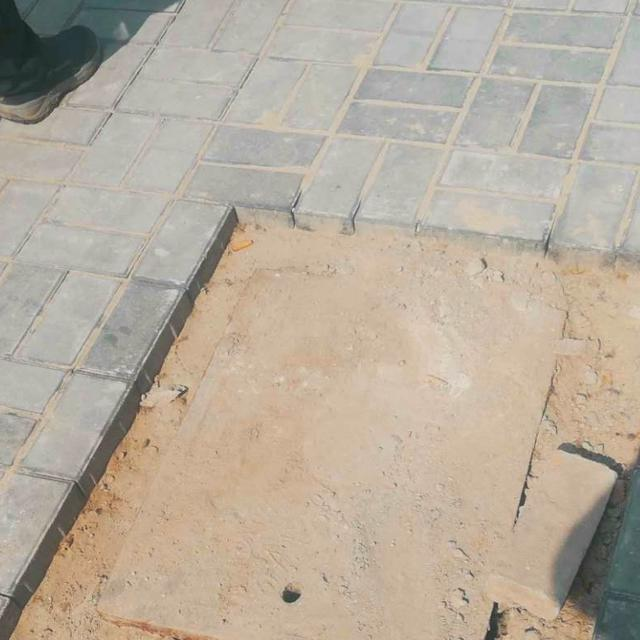circle: (0, 232, 640, 640)
